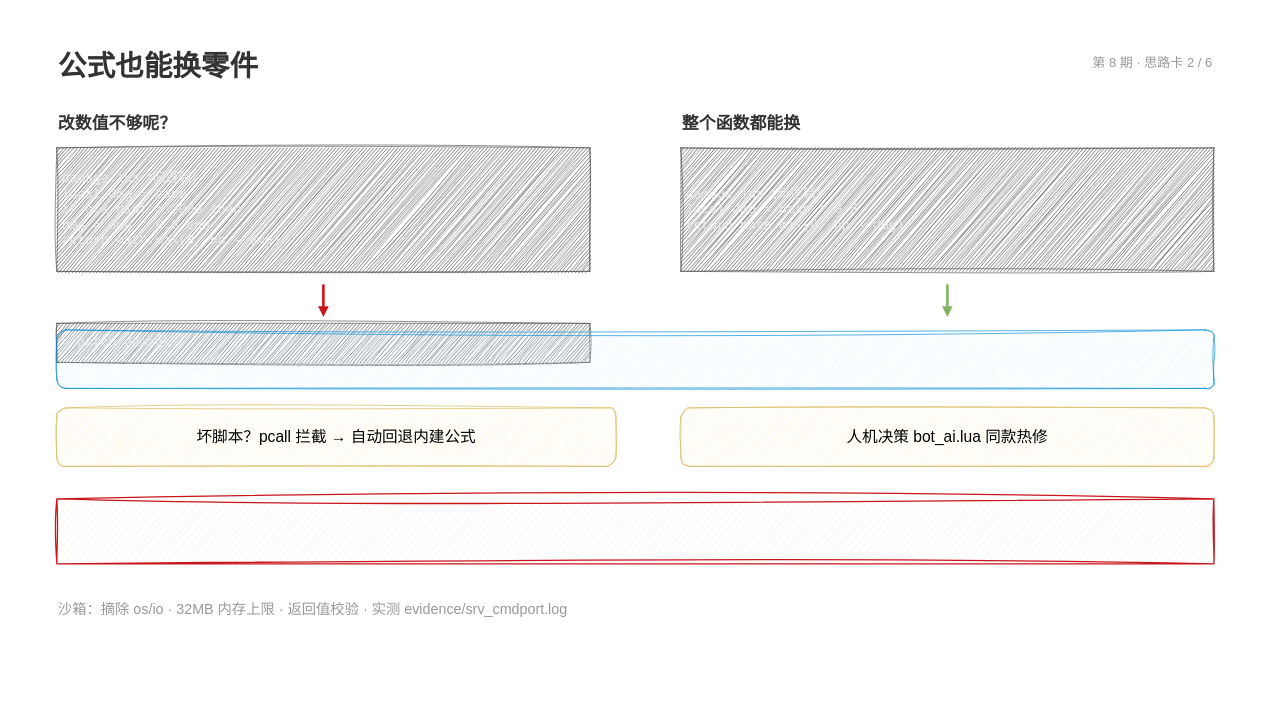
This 1270x724 diagram has some shape labels left out. The shapes that lost their labels are listed below. From the top down, each one's centre as x and y in pixels, then its label:
the point at 635,358: Lua 引擎：换上新的函数引用 上一版闭包交给 GC——不重启
the point at 635,531: 数值用 reload，逻辑用 patch——都不用停服
